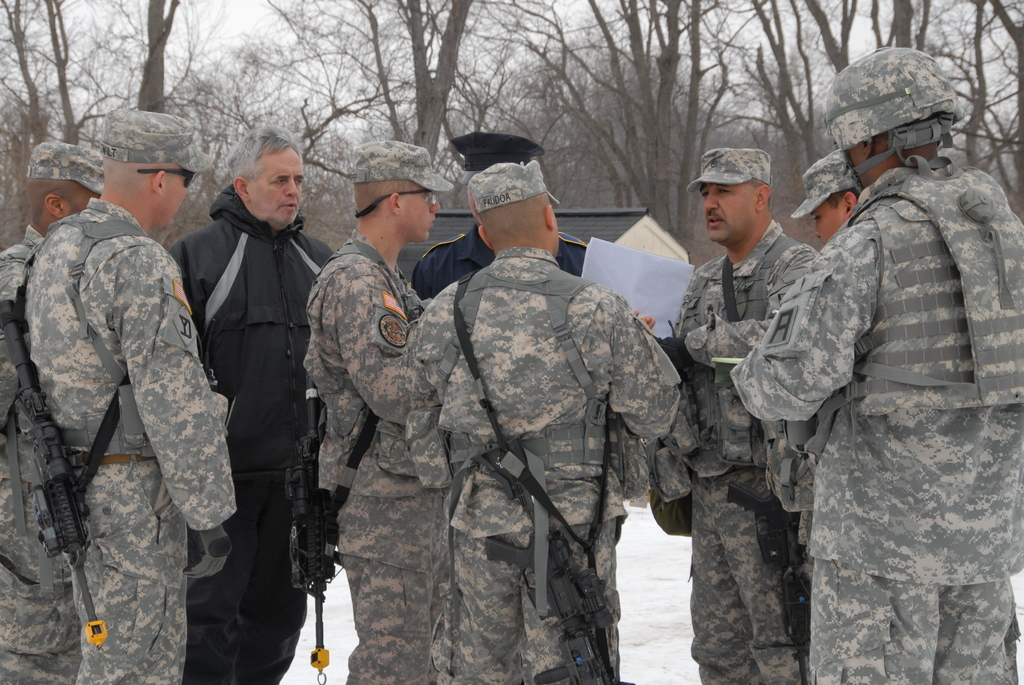Person: (0, 46, 1023, 685), (167, 128, 343, 685)
